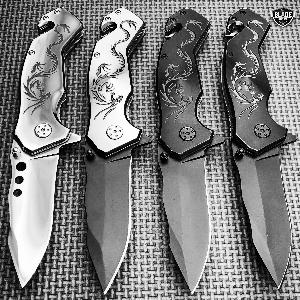knife: (218, 8, 296, 288), (8, 3, 80, 284), (84, 3, 152, 294), (153, 4, 220, 296)
